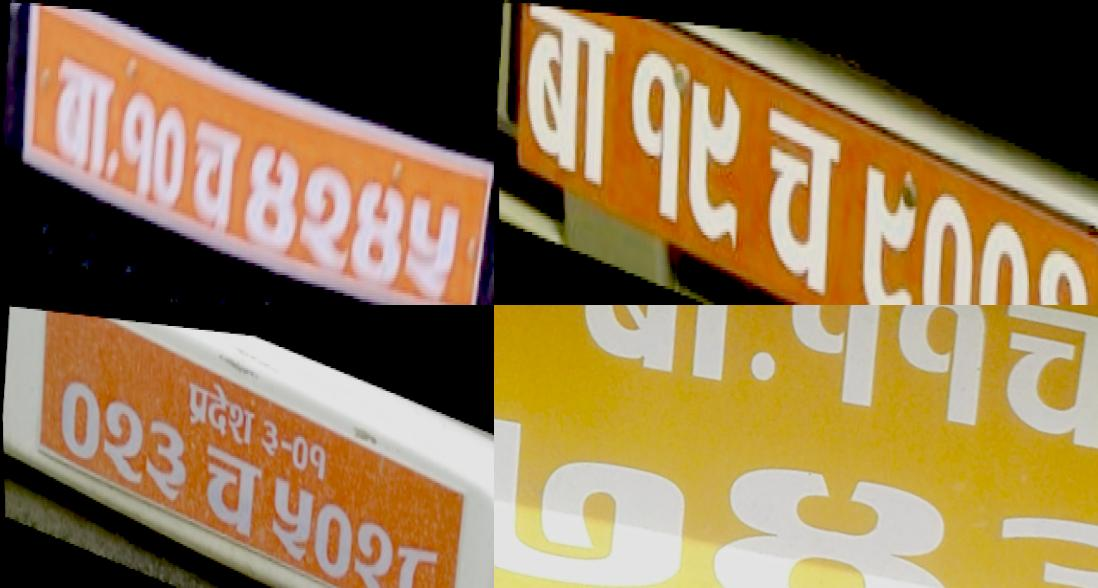0: (911, 164, 986, 305), (966, 191, 1038, 305), (148, 92, 192, 215), (54, 365, 105, 468), (307, 486, 355, 582), (288, 420, 309, 468)
1: (612, 24, 694, 229), (874, 305, 1003, 429), (763, 305, 898, 418), (112, 78, 158, 202), (303, 427, 329, 481)
2: (293, 147, 355, 269), (1020, 212, 1098, 305), (95, 384, 148, 486), (348, 501, 398, 588)
3: (950, 474, 1098, 588), (139, 402, 191, 505), (258, 407, 280, 453)
4: (690, 429, 972, 588), (239, 126, 305, 257), (347, 160, 410, 288)
5: (401, 176, 462, 300), (265, 459, 316, 560)
7: (494, 385, 711, 588)
8: (389, 521, 442, 588)
9: (675, 59, 760, 254), (849, 131, 928, 305)
ba: (510, 2, 624, 196), (554, 305, 761, 396), (45, 43, 121, 179)
cha: (748, 83, 848, 299), (980, 305, 1098, 458), (195, 427, 264, 540), (185, 106, 244, 234)
